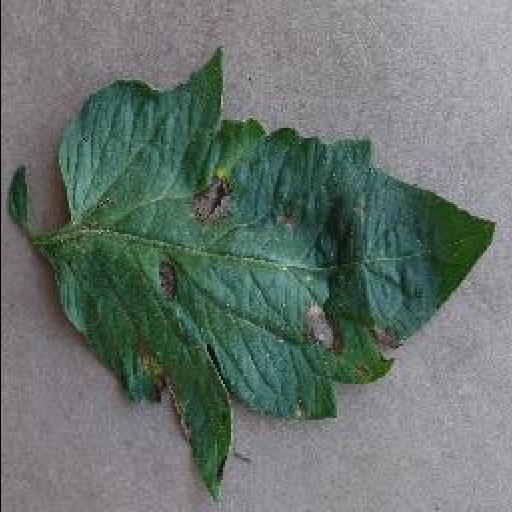disease_tomato: (55, 58, 493, 502)
